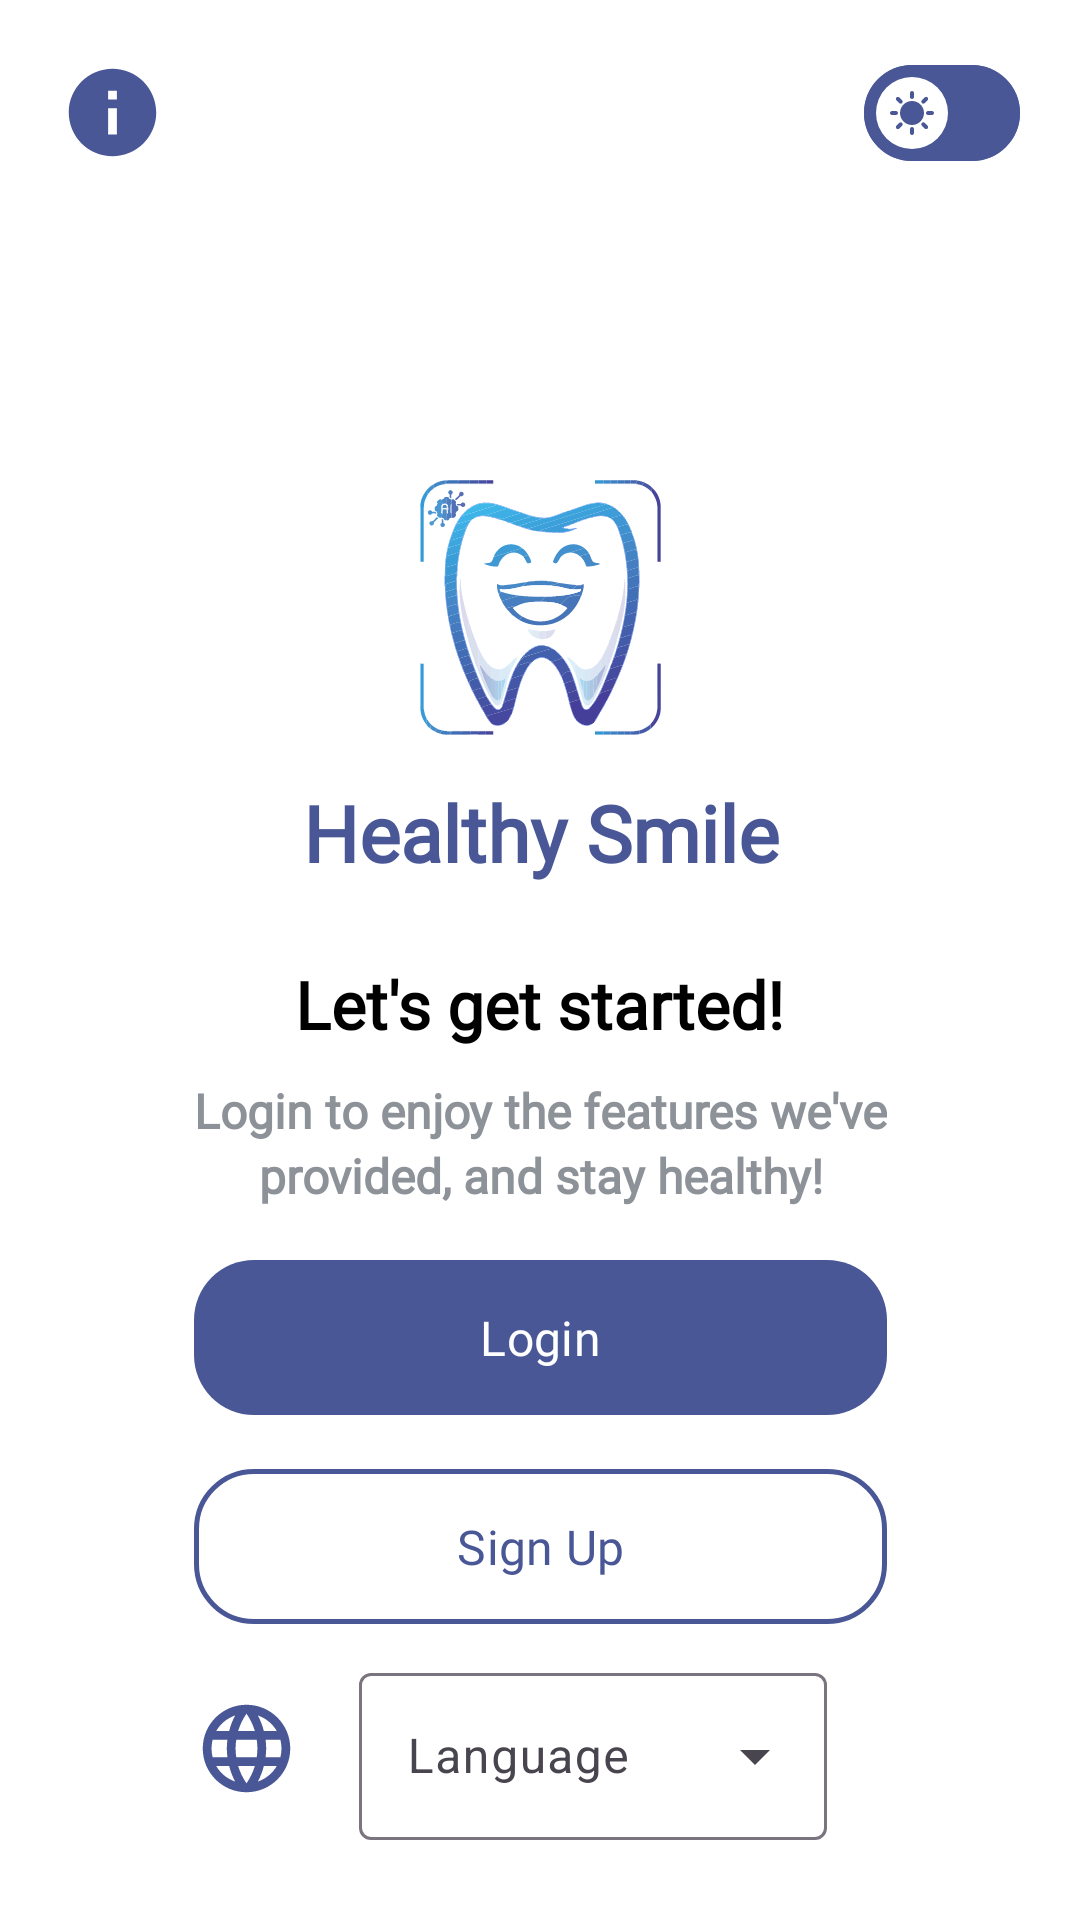

Icon click points for this 1080px x 1920px phone screenshot, format (x,y):
info: (112,112)
